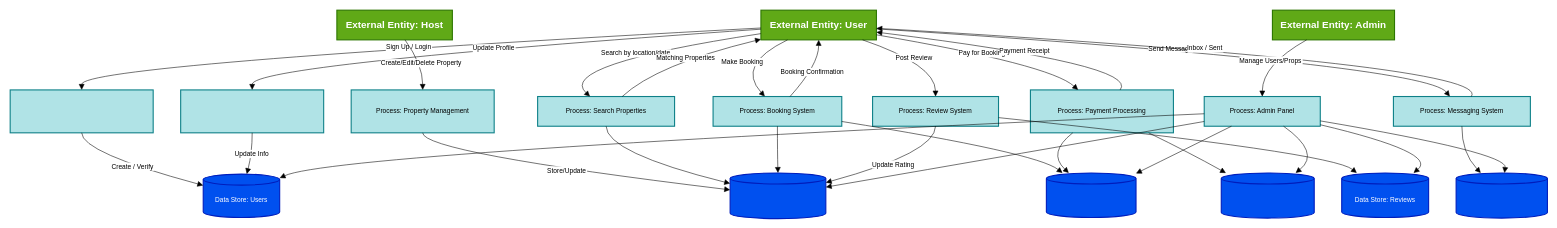
Some shapes in this 1557 by 228 pixel diagram are drawn without their labels. The centre of each missing label's shape, as x and y in pixels:
"Data Store: Bookings" goes at point 1091,195.
"Data Store: Messages" goes at point 1501,195.
"Data Store: Payments" goes at point 1267,195.
"Data Store: Properties" goes at point 777,195.
"Process: Manage User Profile" goes at point 252,111.
"Process: User Authentication" goes at point 81,111.
